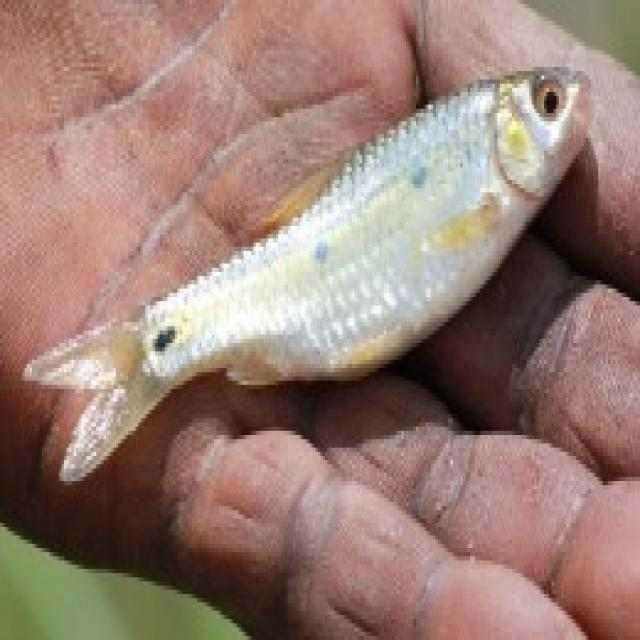Black-Spotted-Barb: (30, 40, 625, 517)
